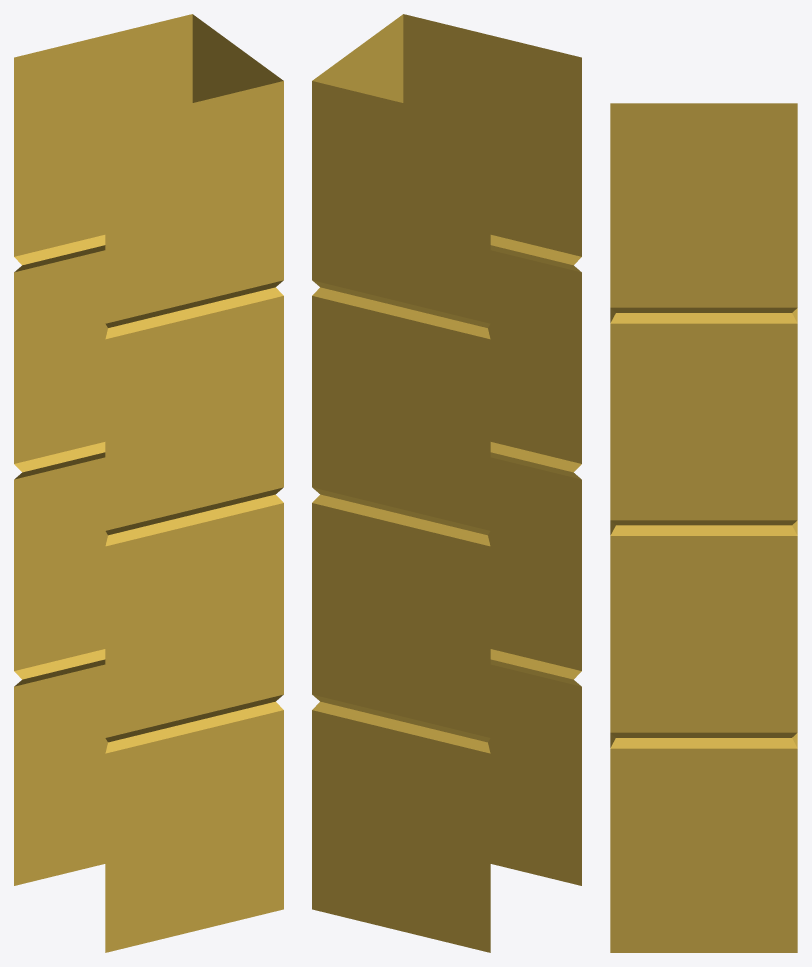
The model's file is pillar-empty.glb.
3 renders of one model, left to right at view 1: azimuth 30°, elevation 25°; view 2: azimuth 150°, elevation 25°; view 3: azimuth 270°, elevation 25°, orthographic. The views are drawn at different scales.
Visible parts, largest first — view 1: Cube; view 2: Cube; view 3: Cube.
Part boxes in pixels (left/top/right/bottom): Cube: left=14, top=14, right=283, bottom=952; Cube: left=312, top=14, right=581, bottom=952; Cube: left=610, top=103, right=797, bottom=952.
Bounding box in the file's own units: 1.62 × 7.19 × 1.44.
